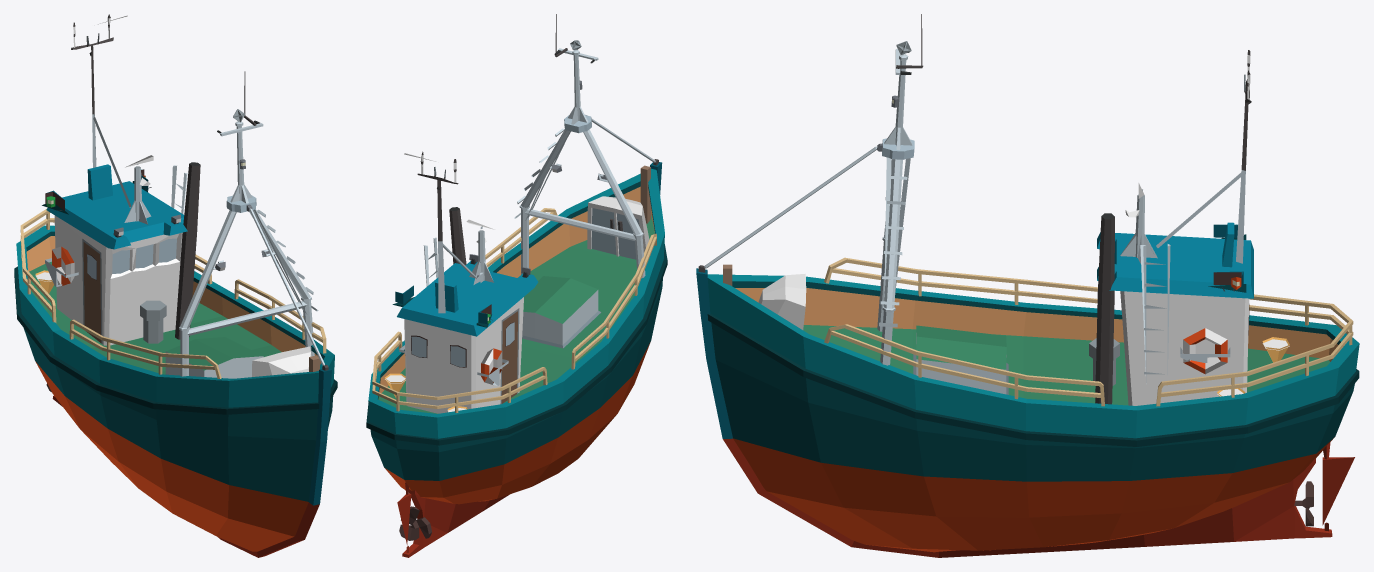
File: fishing boat animates.fbx
3 views of the same model, side by side, from view 1: azimuth 30°, elevation 25°; view 2: azimuth 150°, elevation 25°; view 3: azimuth 270°, elevation 25° (orthographic). The views are drawn at different scales.
Parts seen in each view (by area): view 1: FB Medium Hull, FB M1 Cabin, FishHole, Exhaust, Lifetorus, MastLadder, Marking Lights.001; view 2: FB Medium Hull, FB M1 Cabin, FishHole, Exhaust, Propeller, MastLadder, Marking Lights.001, Lifetorus, Rudder; view 3: FB Medium Hull, FB M1 Cabin, FishHole, Exhaust, MastLadder, Rudder, Ladder, Lifetorus, Marking Lights.001.
Boxes of the visible parts, x1,y1,x2,y2 form: FB Medium Hull: [14, 71, 337, 557]; FB M1 Cabin: [45, 14, 187, 345]; FishHole: [165, 337, 263, 378]; Exhaust: [175, 162, 200, 339]; Lifetorus: [52, 246, 74, 285]; MastLadder: [253, 209, 318, 313]; Marking Lights.001: [42, 169, 151, 214]; FB Medium Hull: [366, 14, 667, 557]; FB M1 Cabin: [397, 151, 538, 413]; FishHole: [522, 276, 600, 348]; Exhaust: [449, 207, 466, 265]; Propeller: [399, 506, 431, 540]; MastLadder: [514, 128, 565, 220]; Marking Lights.001: [392, 285, 492, 327]; Lifetorus: [405, 348, 502, 384]; Rudder: [397, 482, 411, 552]; FB Medium Hull: [696, 14, 1359, 557]; FB M1 Cabin: [1097, 49, 1253, 405]; FishHole: [913, 325, 1008, 394]; Exhaust: [1095, 213, 1114, 404]; MastLadder: [879, 157, 910, 327]; Rudder: [1322, 442, 1354, 531]; Ladder: [1140, 244, 1170, 383]; Lifetorus: [1183, 328, 1227, 374]; Marking Lights.001: [1208, 224, 1246, 292].
Size of the model in its own units: 229 by 567 by 621.
Materials: 1 (1 with a texture image).
